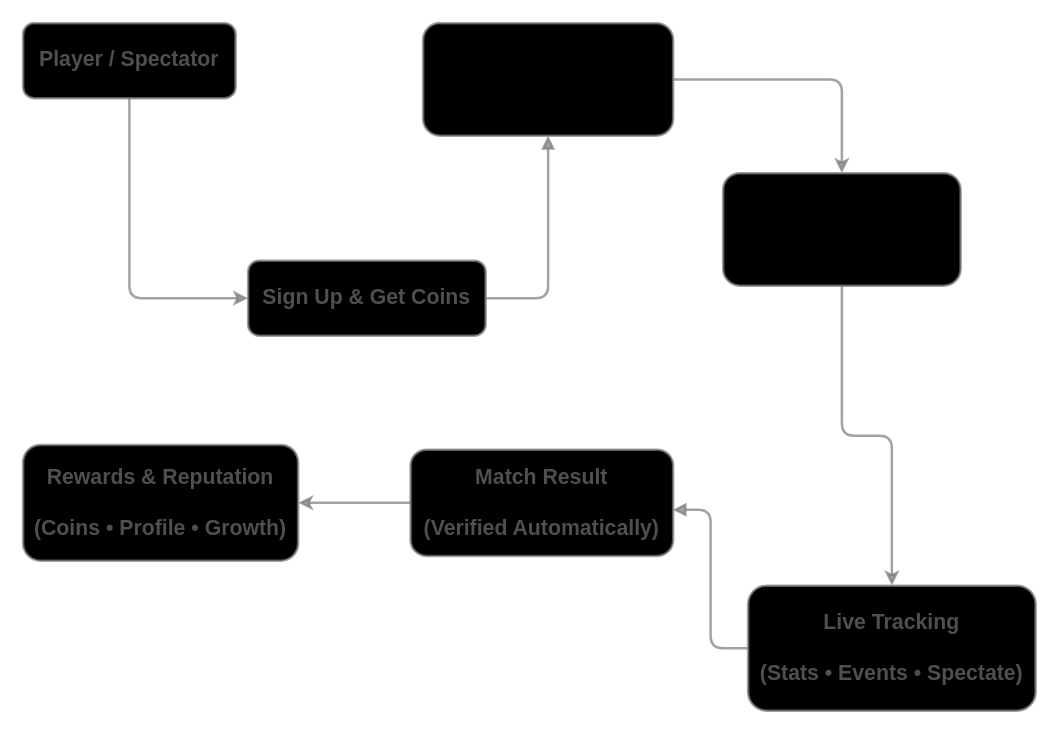
Image size: 1058x733. Some labels were removed from this diagram. Each missing label, with the centre of its shape:
Matchmaking (Free or Stake-Based): [547,78]
Secure Match (Screen Recorded): [841,228]
